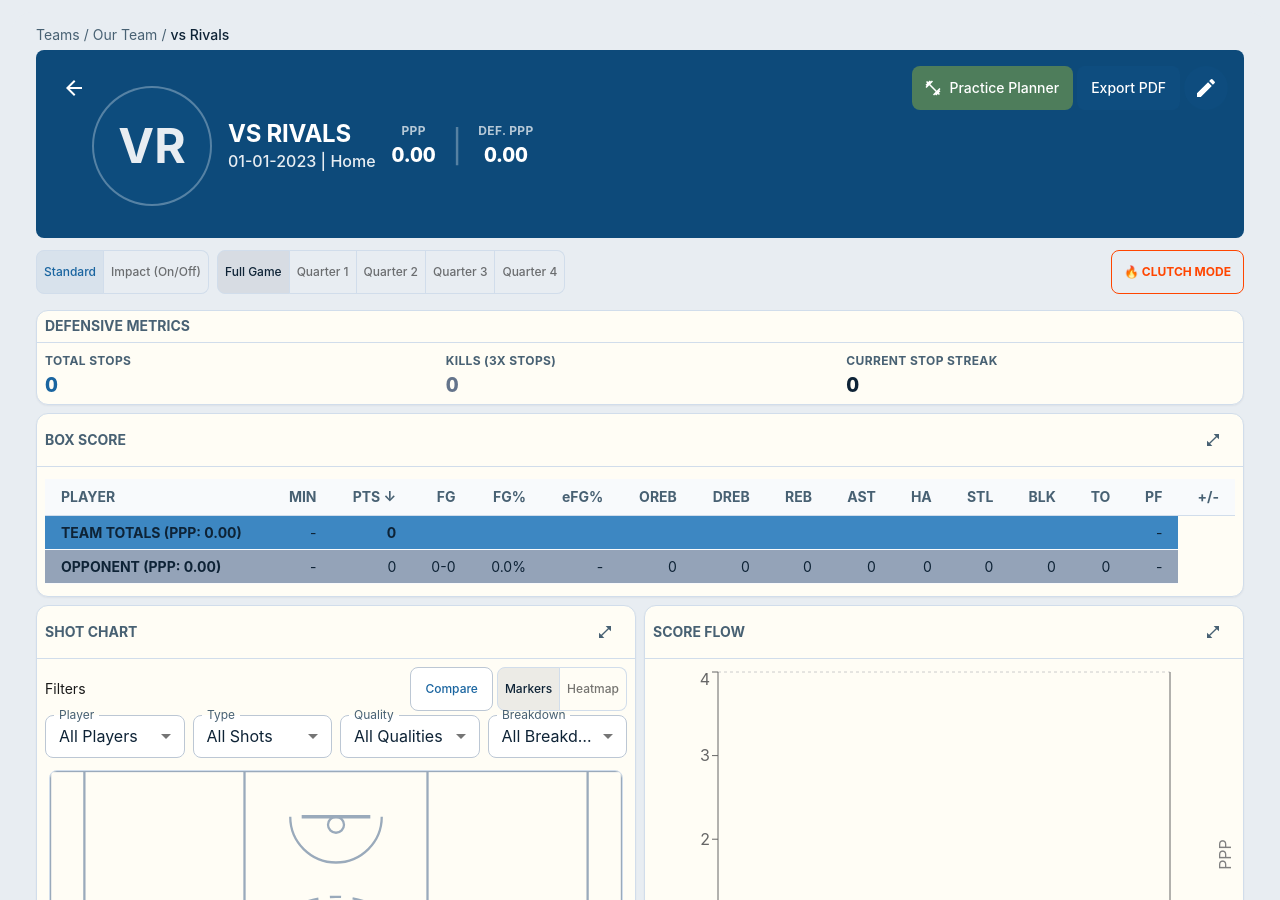
Test: GameStats Page › opens expanded section dialog for shotChart
This screenshot has width=1280, height=900.
# Expand shot chart (second expand button)
Click the button named "expand" in the row of "Shot Chart".
click(605, 632)  # box [583,610,627,654]
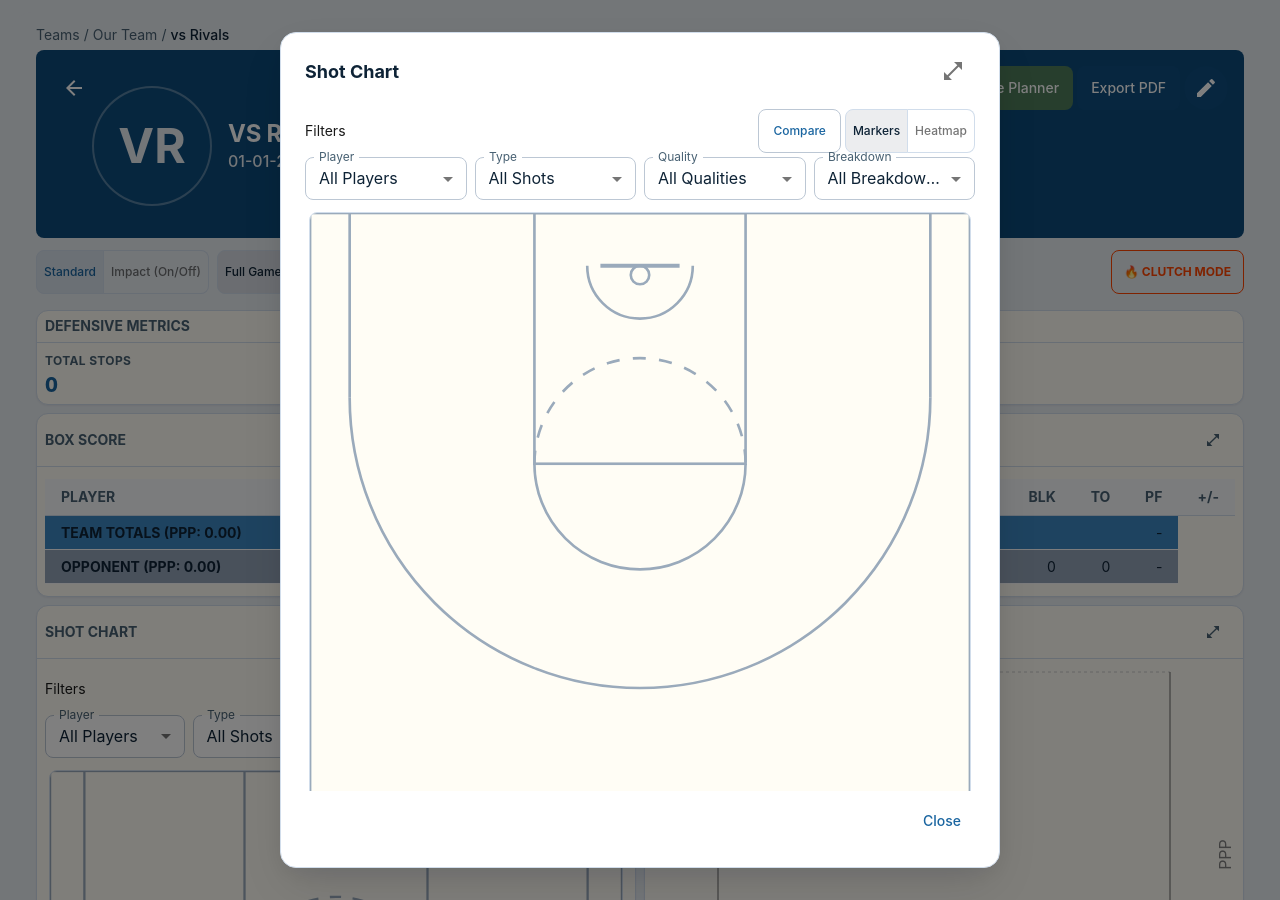
Expected: the dialog is shown, [280,32,1000,868]
Expected: the heading "Shot Chart" is shown, [305,49,975,93]
Click the button named "collapse section".
click(953, 71)  # box [931,49,975,93]
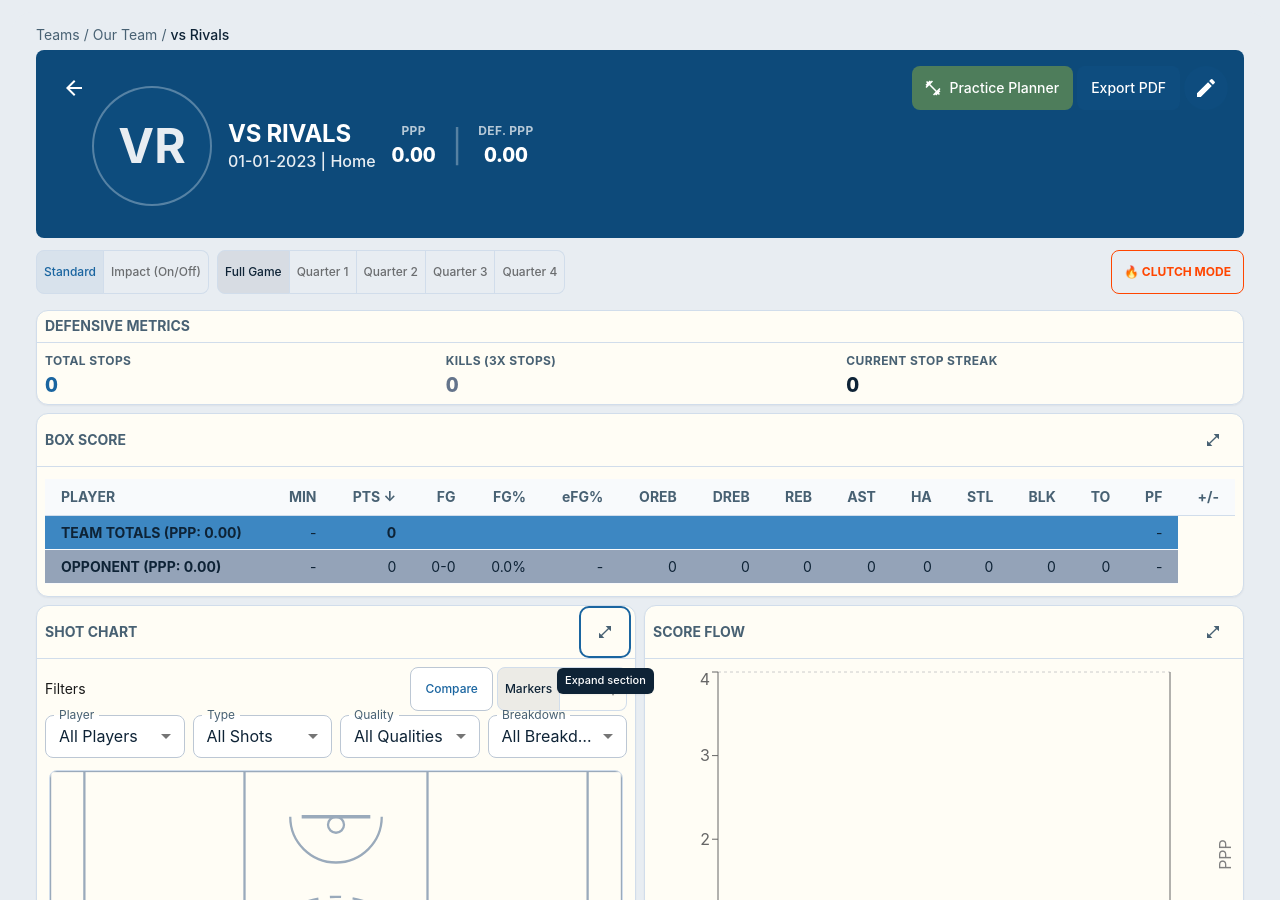
Expected: the dialog is gone
